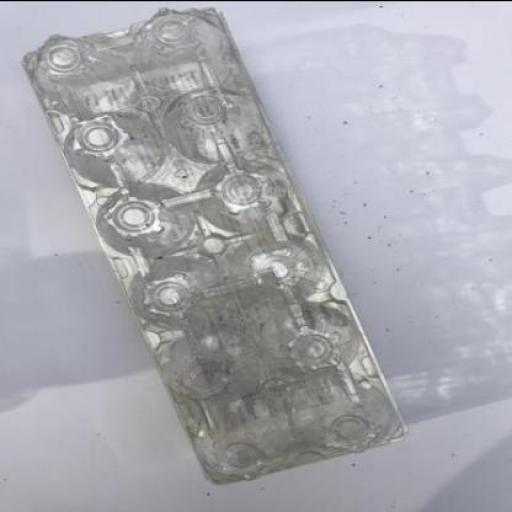plastic: (22, 6, 408, 481)
